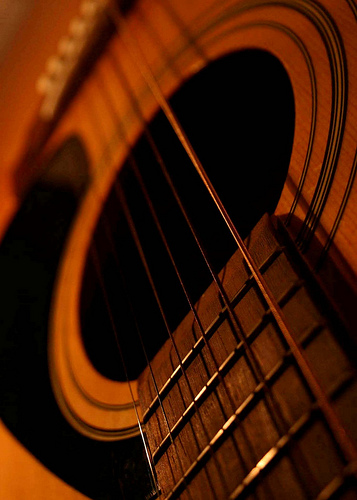guitar: (1, 1, 357, 500)
